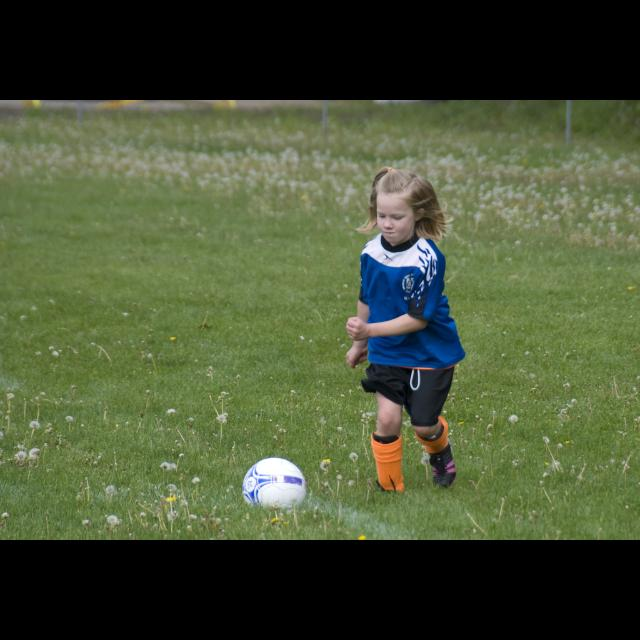Football: (240, 456, 304, 516)
